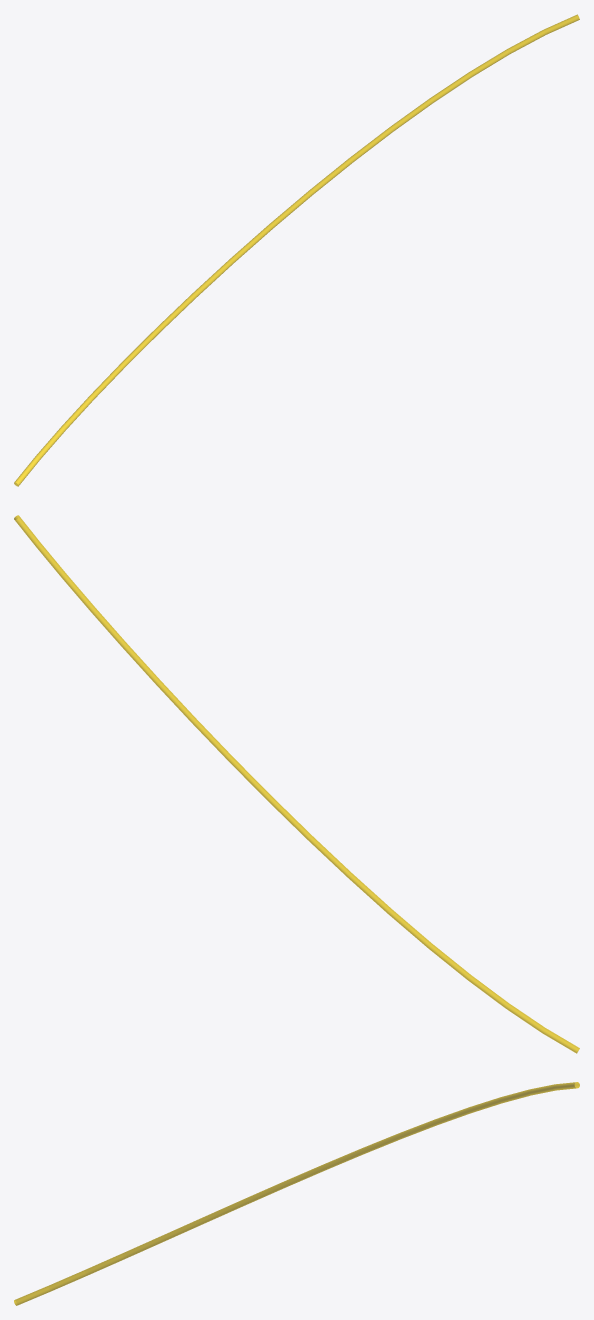
File: Event_15818458_track_21.fbx
3 views of the same model, one above another, from view 1: azimuth 30°, elevation 25°; view 2: azimuth 150°, elevation 25°; view 3: azimuth 330°, elevation 25° (orthographic). The views are drawn at different scales.
Visible parts, largest first — view 1: Model; view 2: Model; view 3: Model.
Boxes of the visible parts, left/top/right/bottom form: Model: left=14, top=14, right=579, bottom=486; Model: left=14, top=515, right=579, bottom=1053; Model: left=14, top=1082, right=579, bottom=1305.
Bounding box in the file's own units: 4.26 × 2.64 × 0.5404.
